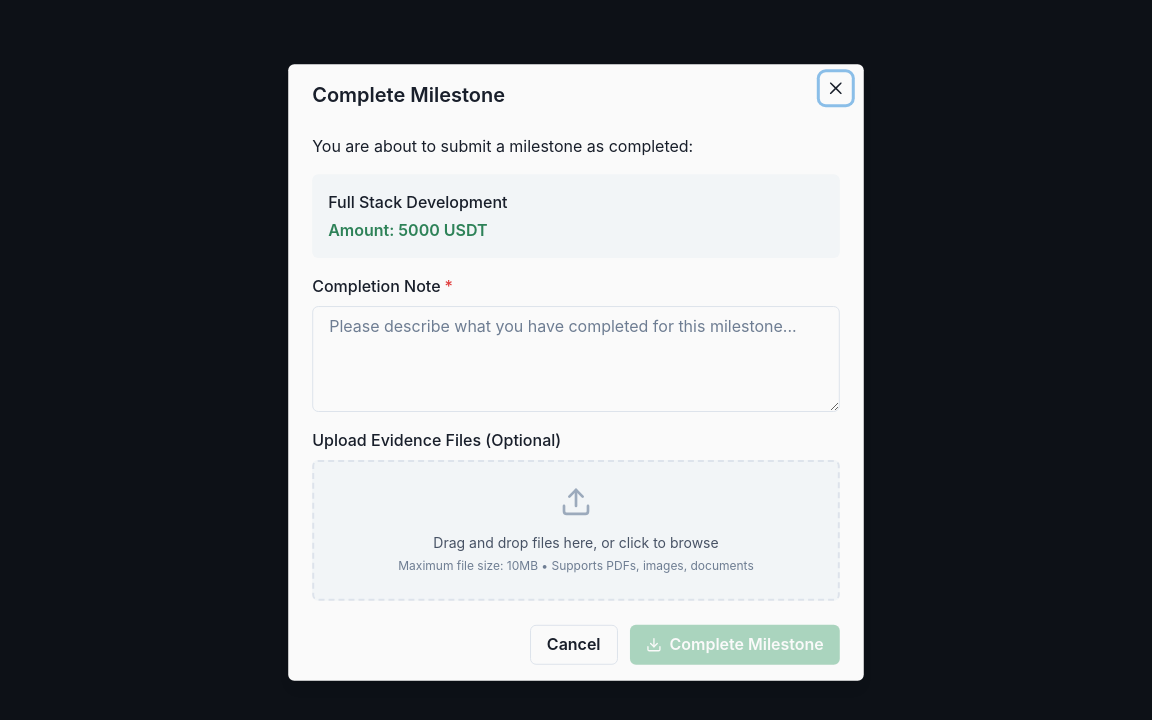
it: CompleteMilestoneModal › enables submit button when note is provided
This screenshot has width=1152, height=720.
Step 1. Type "Milestone completed successfully" into the text box labelled "Completion Note*" → (576, 359), box [312,306,840,412]
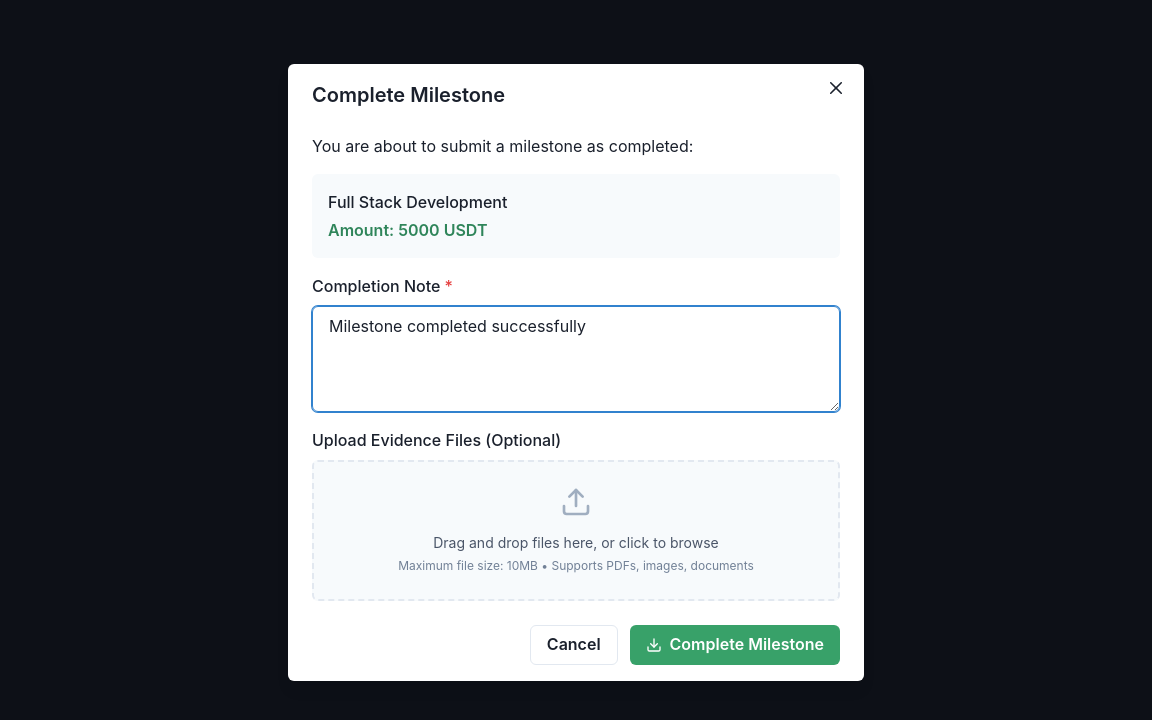
expect the button "Complete Milestone" is enabled: met, box [630,625,840,665]
